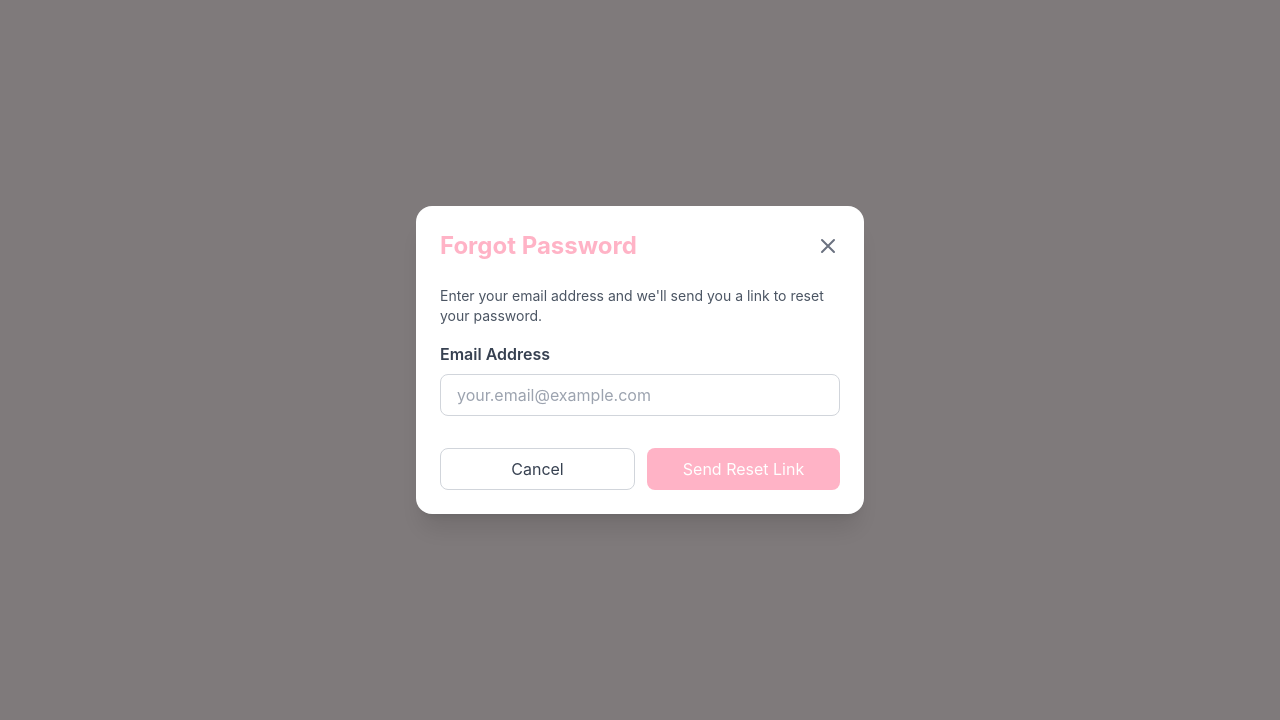
ForgotPasswordModal › Error Handling › displays generic error when no API message
Type "test@example.com" into the field with placeholder "your.email@example.com" at (640, 395), box [440,374,840,416]
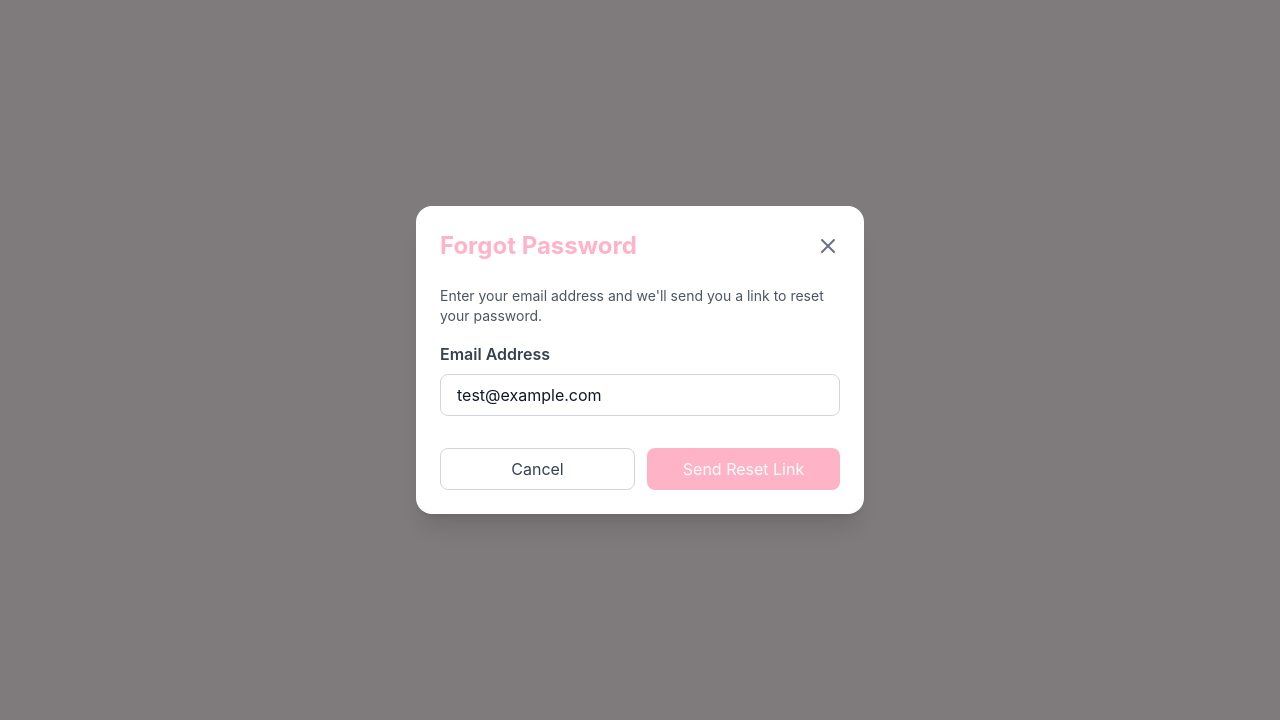
Click the button "Send Reset Link" at (744, 469), box [647,448,840,490]
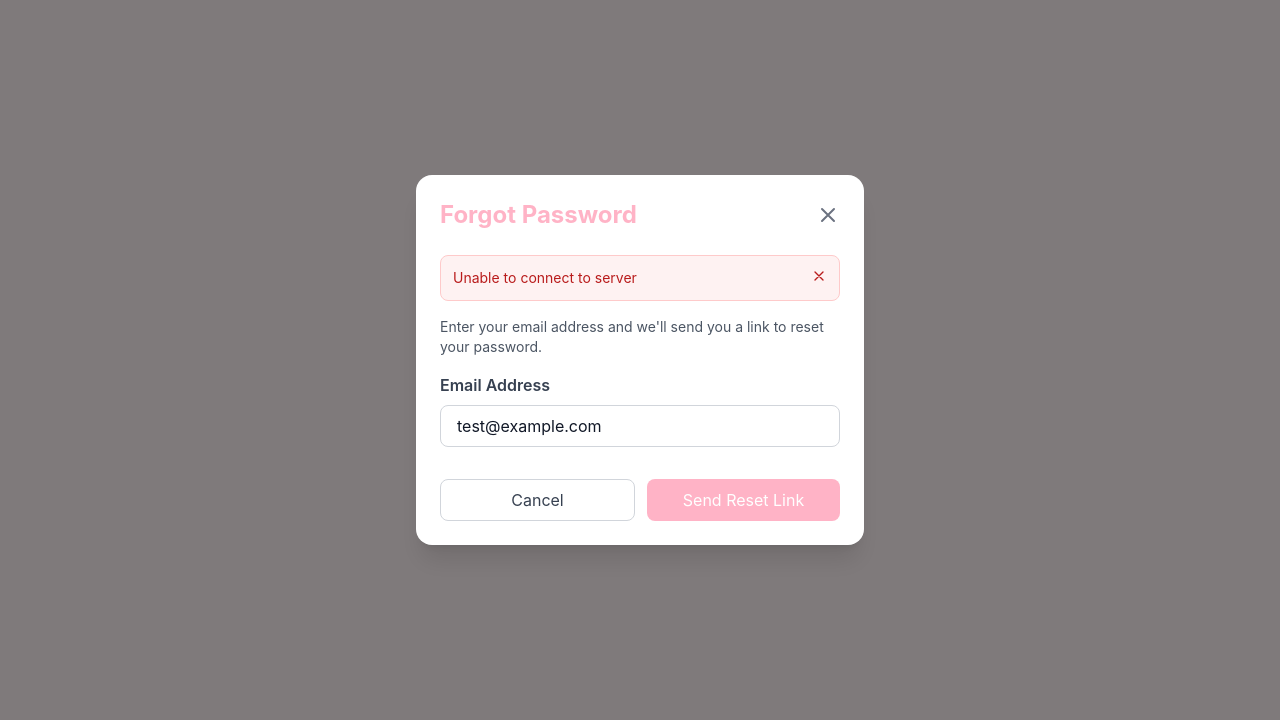
Now the text "Unable to connect to server" is shown, box [453,268,637,288]
